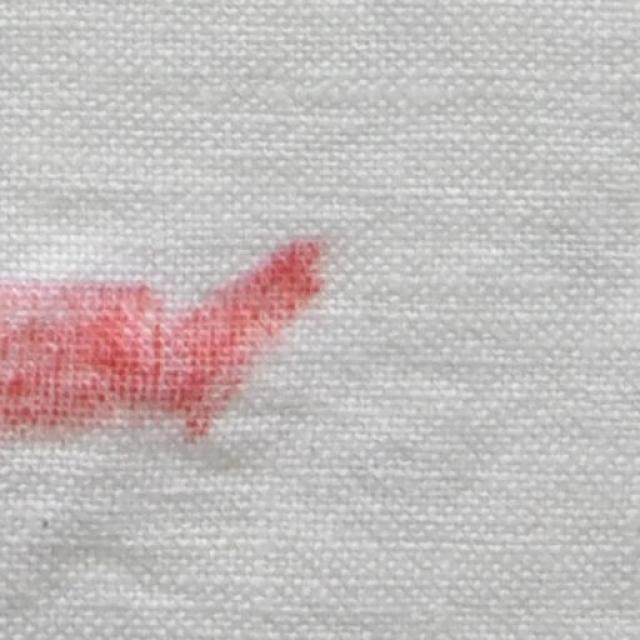Stain: (0, 240, 322, 439)
